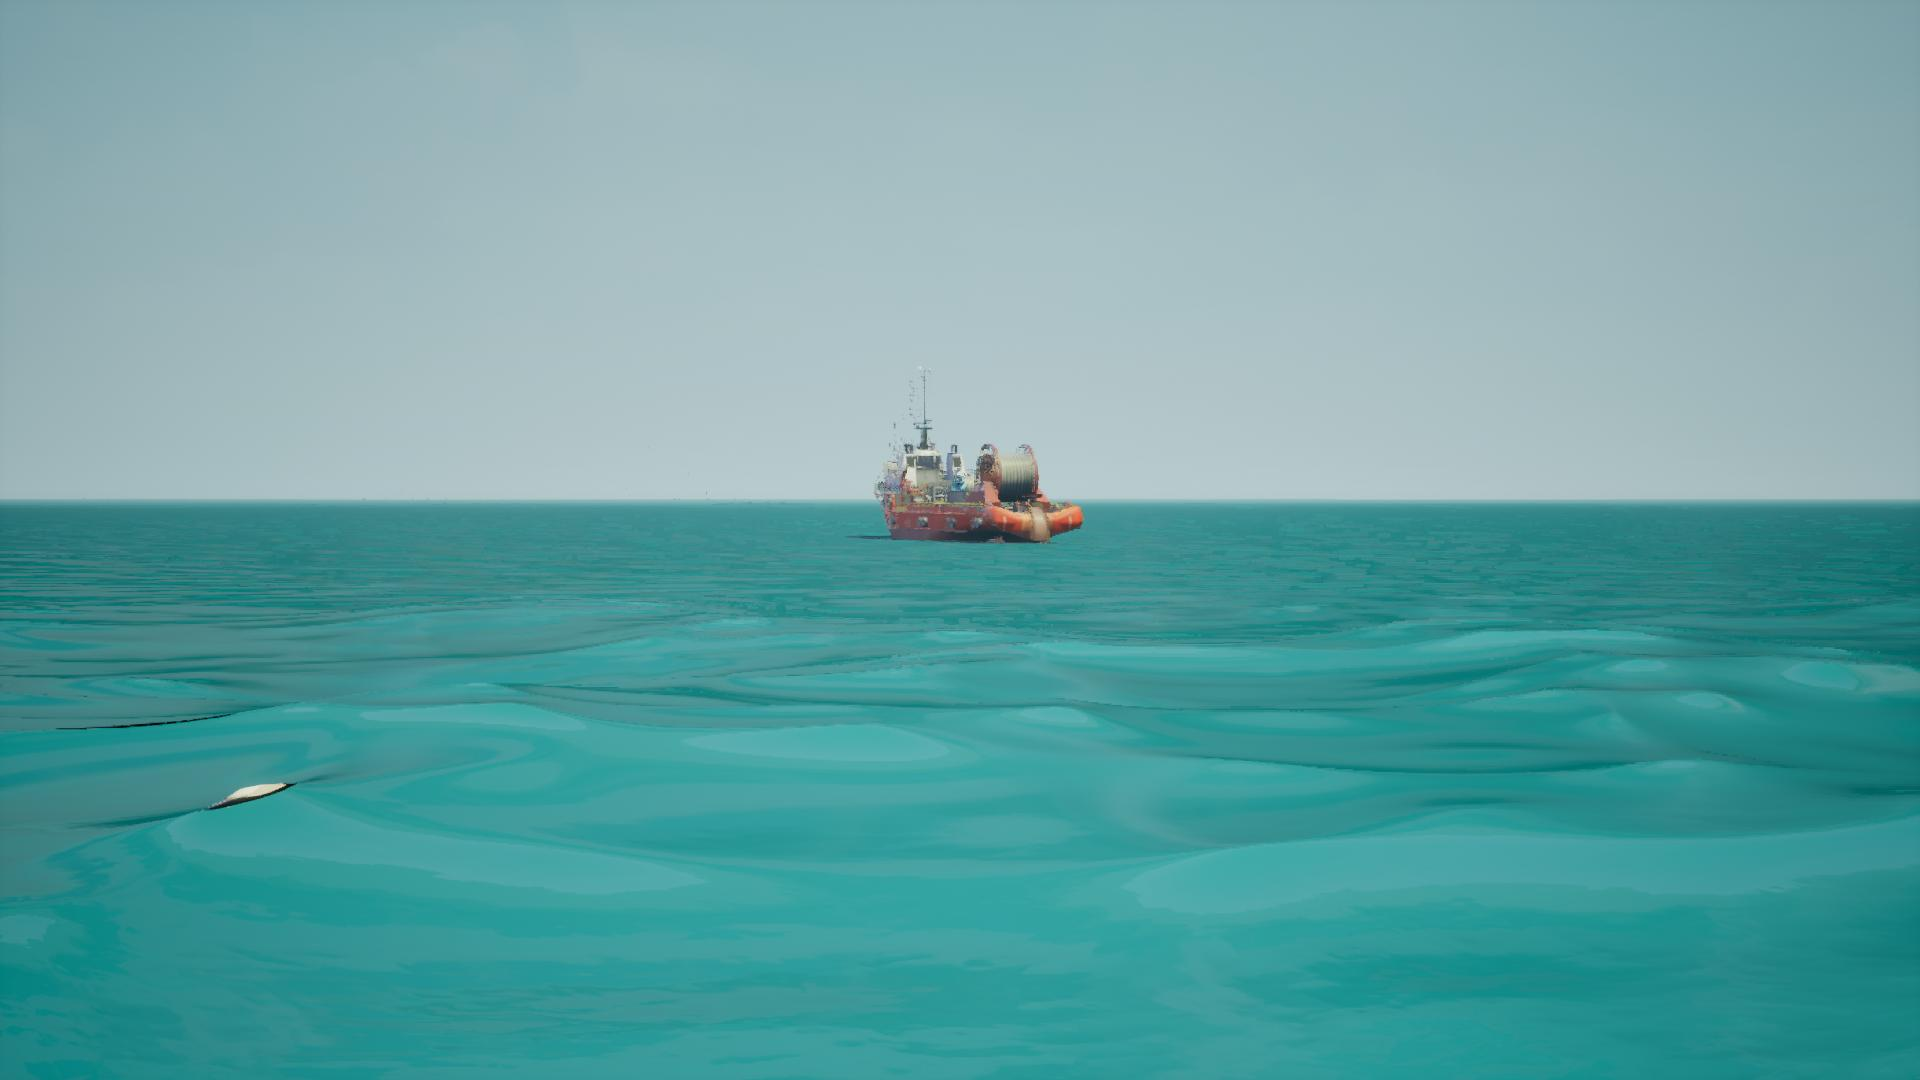Tug Boat: (873, 369, 1076, 546)
